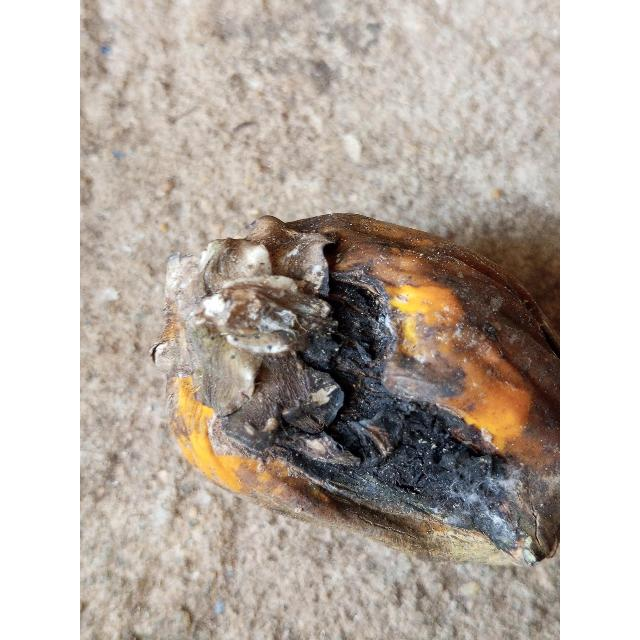damaged: (150, 215, 560, 564)
